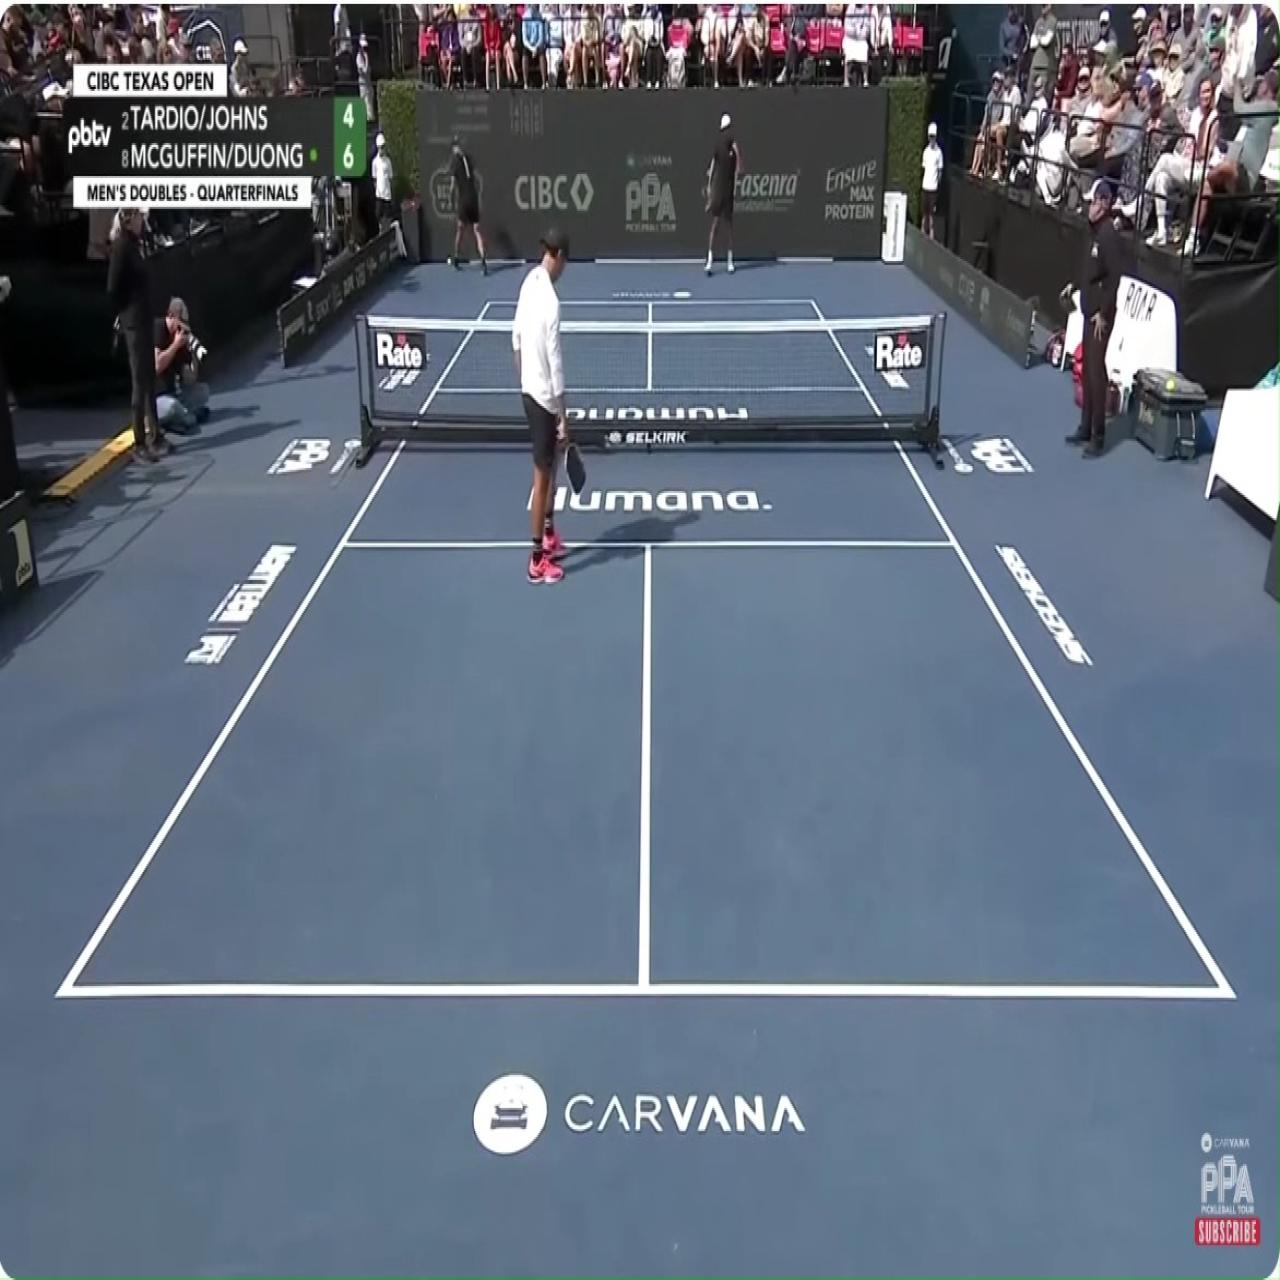pickleball: (447, 257, 452, 266)
